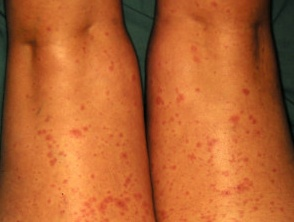SJS-TEN: (1, 19, 160, 222), (145, 72, 282, 222)
